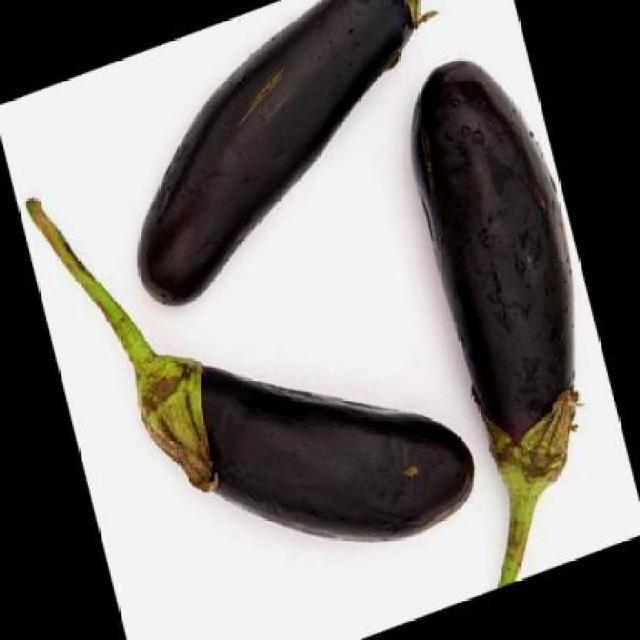eggplant: (21, 195, 480, 552), (132, 0, 444, 323), (406, 58, 585, 606)
